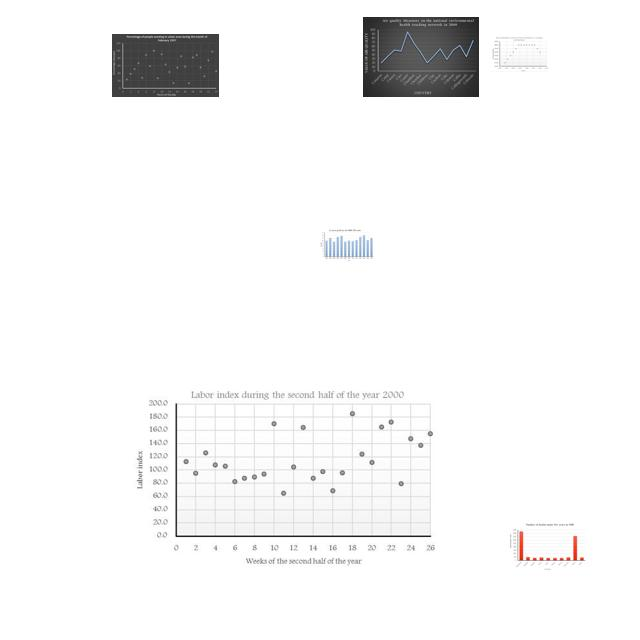Graph: (133, 386, 436, 567), (363, 17, 479, 97), (112, 34, 219, 97), (508, 522, 587, 573), (491, 36, 549, 72), (320, 229, 374, 262)
